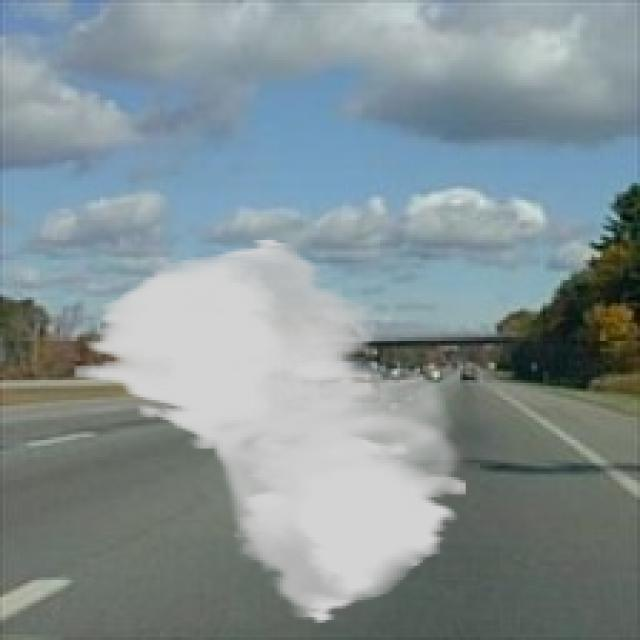smoke: (74, 237, 469, 626)
